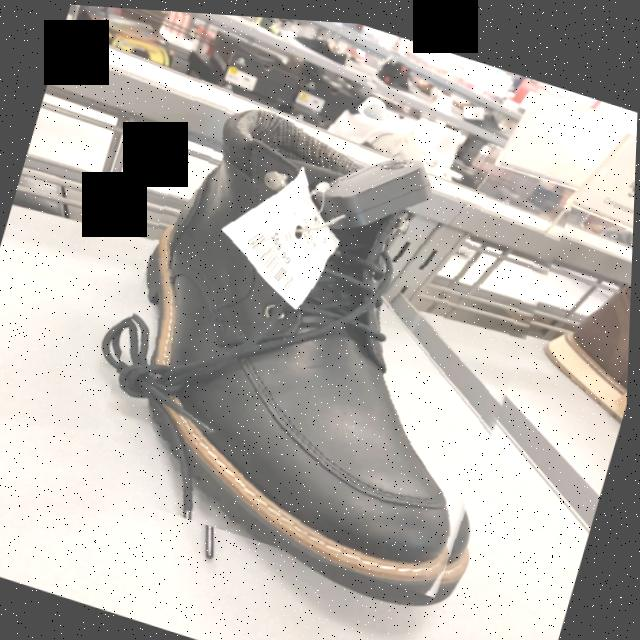shoe: (141, 101, 458, 580)
